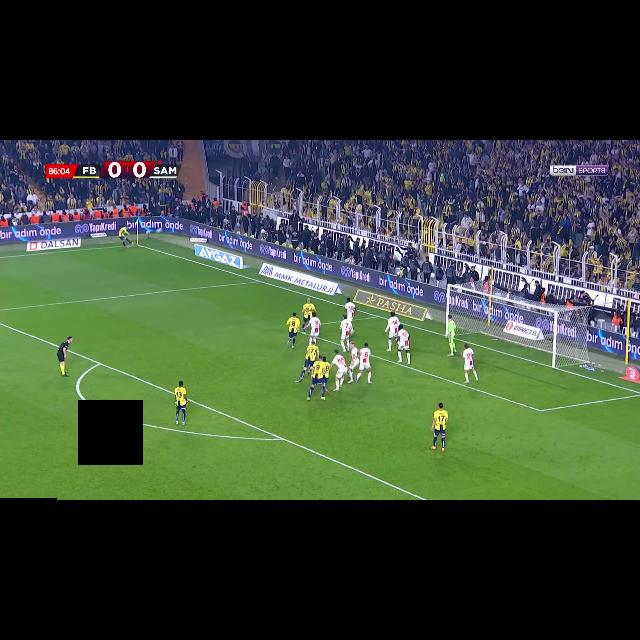billboard: (0, 216, 639, 360), (258, 262, 341, 294), (353, 289, 426, 320), (194, 244, 249, 269), (503, 320, 544, 340), (27, 238, 81, 251)
